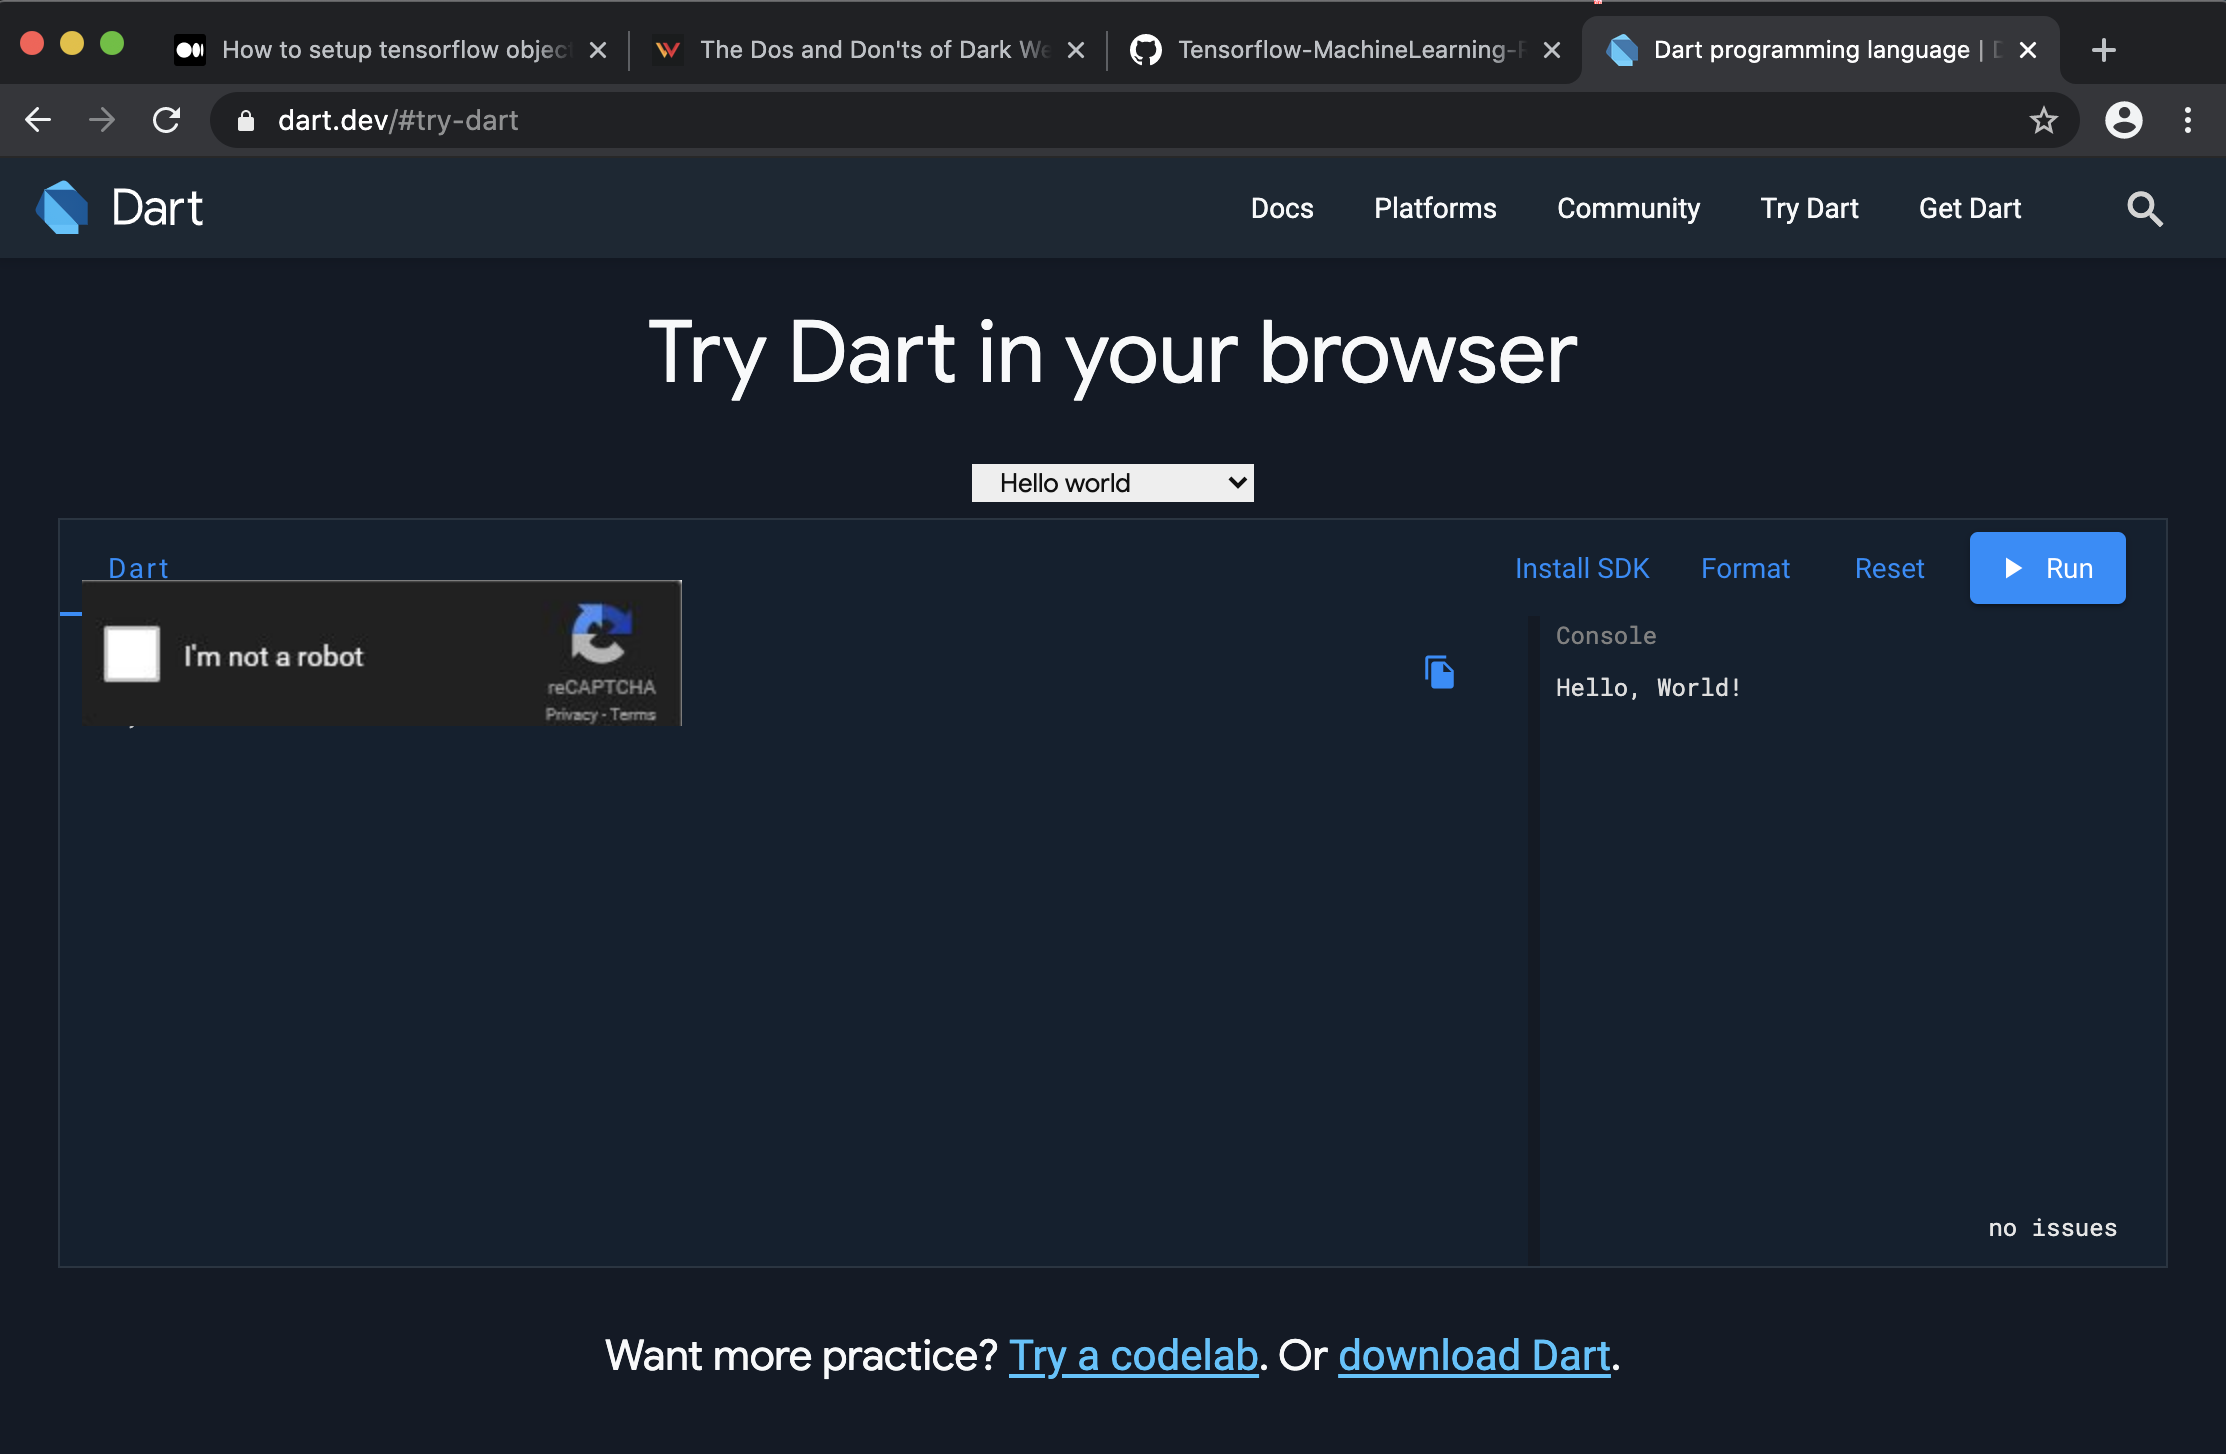captcha: (70, 563, 703, 753)
